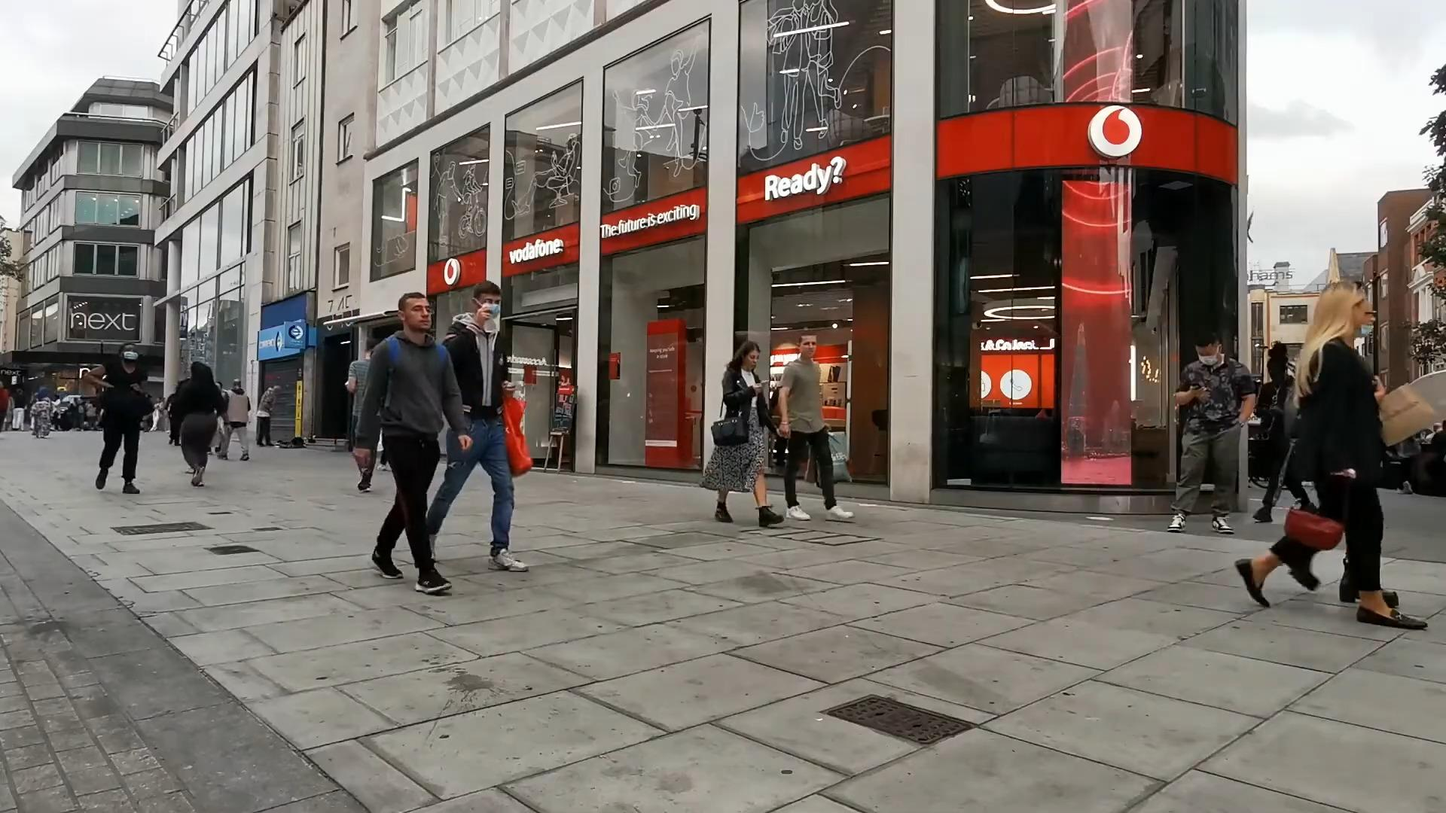no-helmet: (1312, 280, 1377, 339), (396, 292, 432, 331), (471, 281, 502, 320), (1266, 339, 1290, 387), (1193, 330, 1223, 366), (734, 340, 761, 371), (189, 361, 215, 391), (796, 330, 818, 358), (117, 342, 140, 364)
